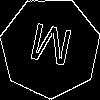M: (25, 22, 75, 76)
